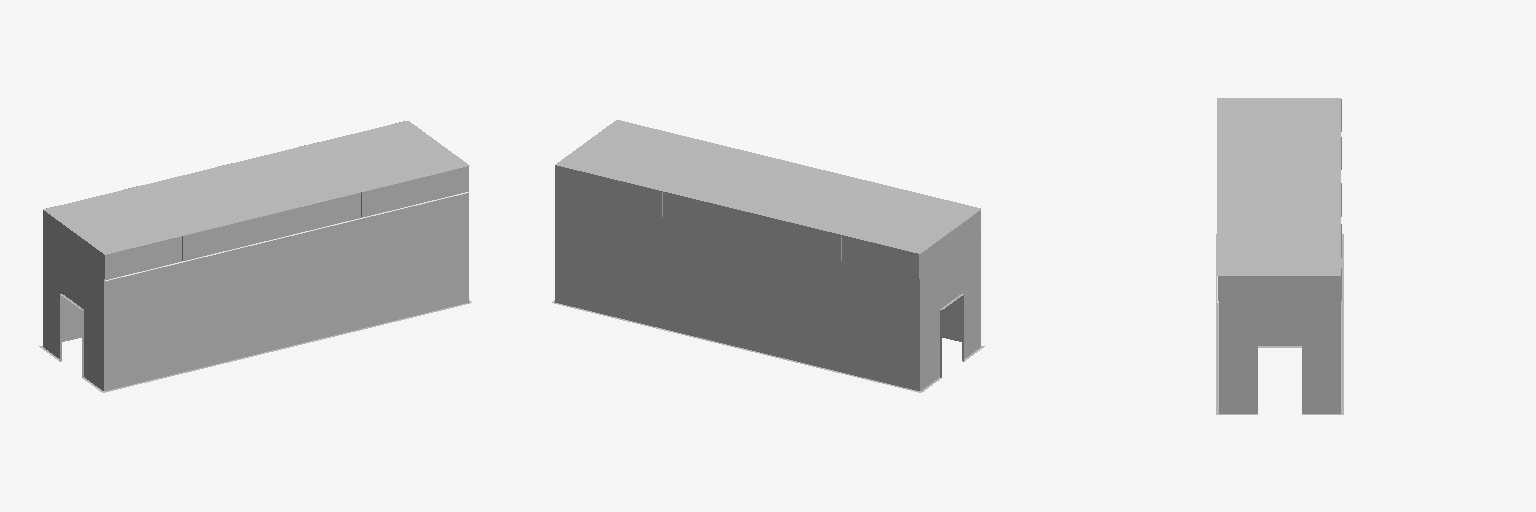
File: Tunnel1-V4.obj
The picture shows the model from 3 angles: view 1: azimuth 30°, elevation 25°; view 2: azimuth 150°, elevation 25°; view 3: azimuth 270°, elevation 25°; orthographic projection.
Visible parts, largest first — view 1: Tunnel1-V4; view 2: Tunnel1-V4; view 3: Tunnel1-V4.
Boxes of the visible parts, <box> form: Tunnel1-V4: <box>39,121,471,392</box>; Tunnel1-V4: <box>552,120,984,392</box>; Tunnel1-V4: <box>1216,98,1343,414</box>.
Bounding box in the file's own units: 15.5 × 5.5 × 4.62.